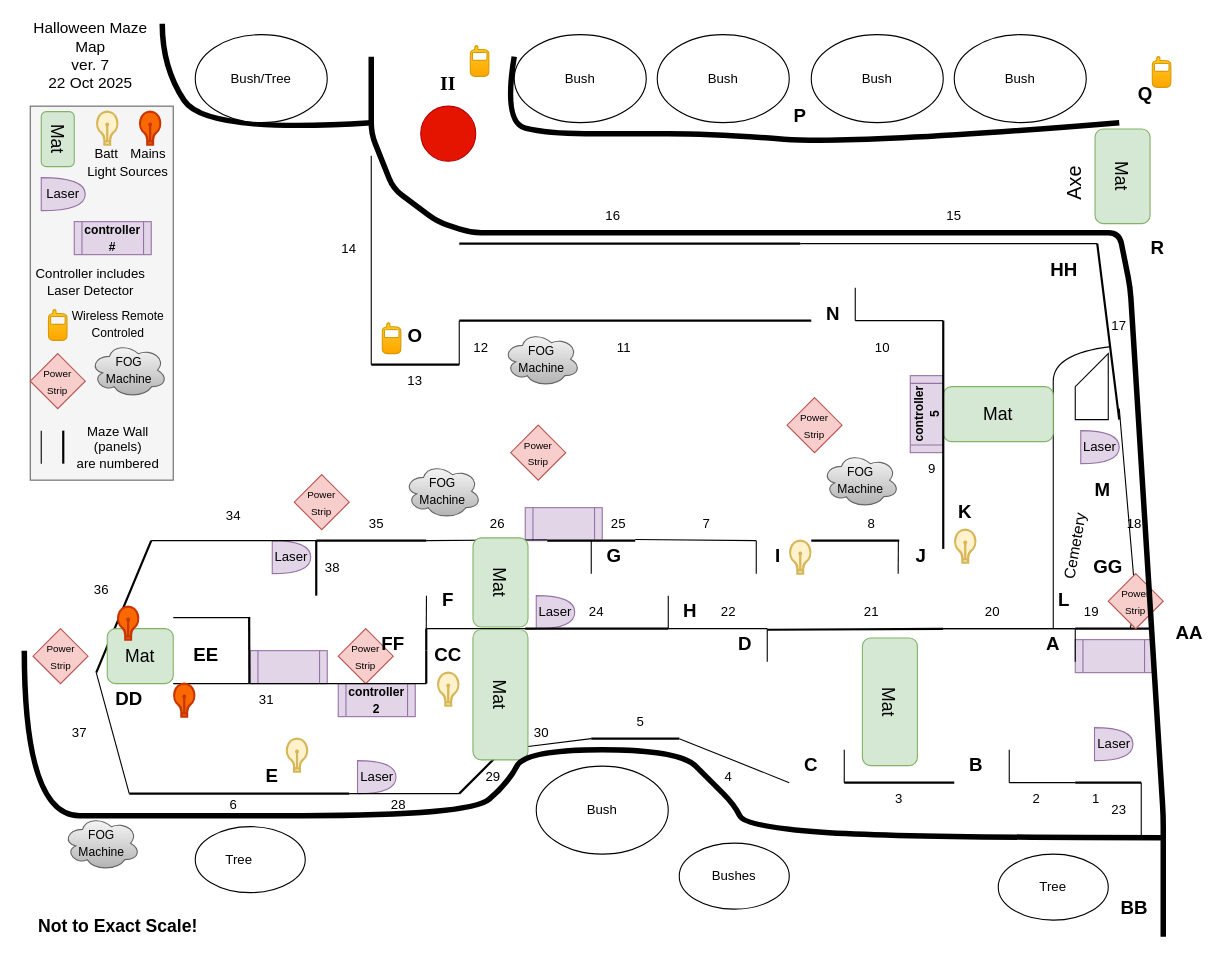
Some shapes in this 1230 by 959 pixel diagram are drawn without their labels. The centre of each missing label's shape, as x and y in pixels:
"CANDY" goes at point (448, 133).
"Coffin" goes at point (1091, 386).
"controller 1" goes at point (1113, 656).
"controller 3" goes at point (288, 667).
"controller 4" goes at point (563, 524).
